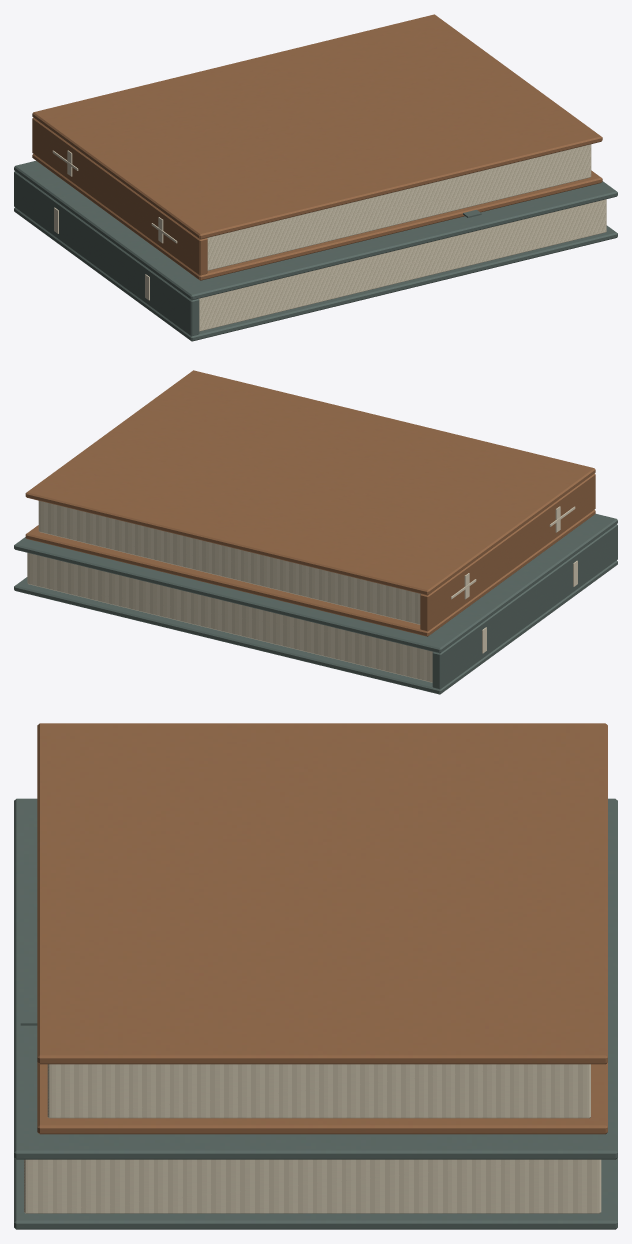
Rendered from book_stack.glb.
The picture shows the model from 3 angles, top to bottom: view 1: azimuth 30°, elevation 25°; view 2: azimuth 150°, elevation 25°; view 3: azimuth 270°, elevation 25°; orthographic projection. The views are drawn at different scales.
Visible parts, largest first — view 1: home_book_stack; view 2: home_book_stack; view 3: home_book_stack.
Boxes of the visible parts, left/top/right/bottom form: home_book_stack: left=14, top=14, right=617, bottom=341; home_book_stack: left=14, top=370, right=617, bottom=694; home_book_stack: left=14, top=723, right=617, bottom=1229.
Bounding box in the file's own units: 0.25 × 0.055 × 0.18.
Materials: 1 (1 with a texture image).
